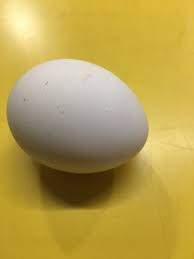eggs: (12, 42, 159, 167)
